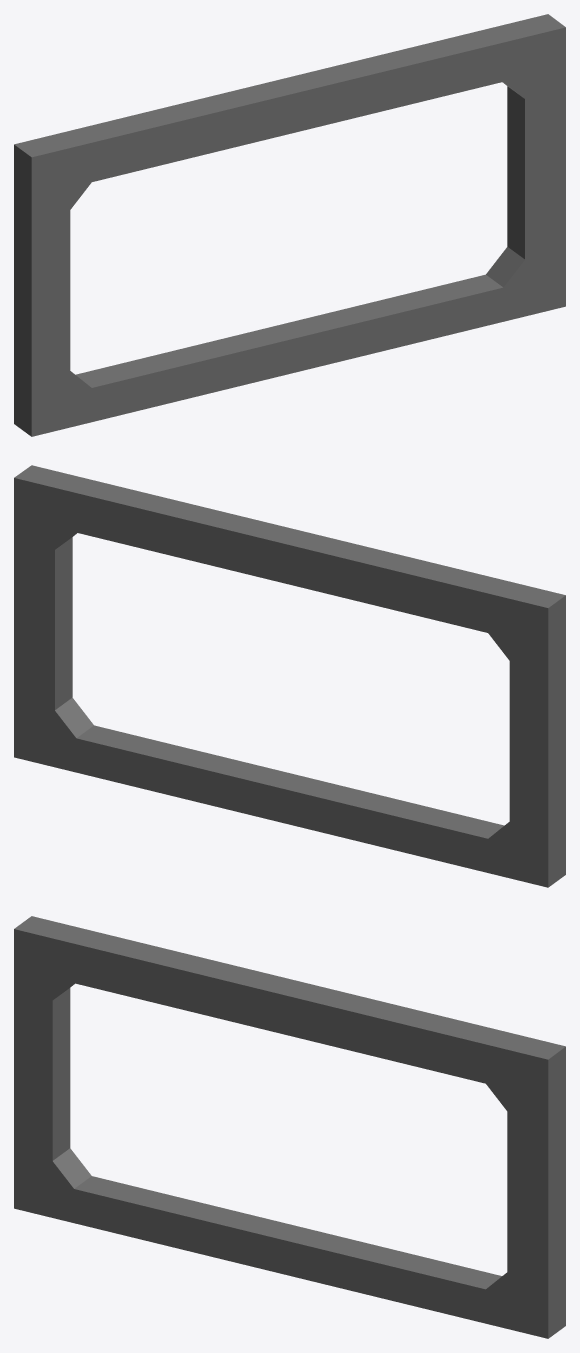
Rendered from SM_B1_Wall5.fbx.
3 views of the same model, one above another, from view 1: azimuth 30°, elevation 25°; view 2: azimuth 150°, elevation 25°; view 3: azimuth 330°, elevation 25° (orthographic).
Visible parts, largest first — view 1: SM_B1_Wall5; view 2: SM_B1_Wall5; view 3: SM_B1_Wall5.
Boxes of the visible parts, bbox=[...] form: SM_B1_Wall5: bbox=[14, 14, 565, 436]; SM_B1_Wall5: bbox=[14, 465, 565, 887]; SM_B1_Wall5: bbox=[14, 916, 565, 1338].
Bounding box in the file's own units: 800 × 45.97 × 400.
1 material, 1 textured.
